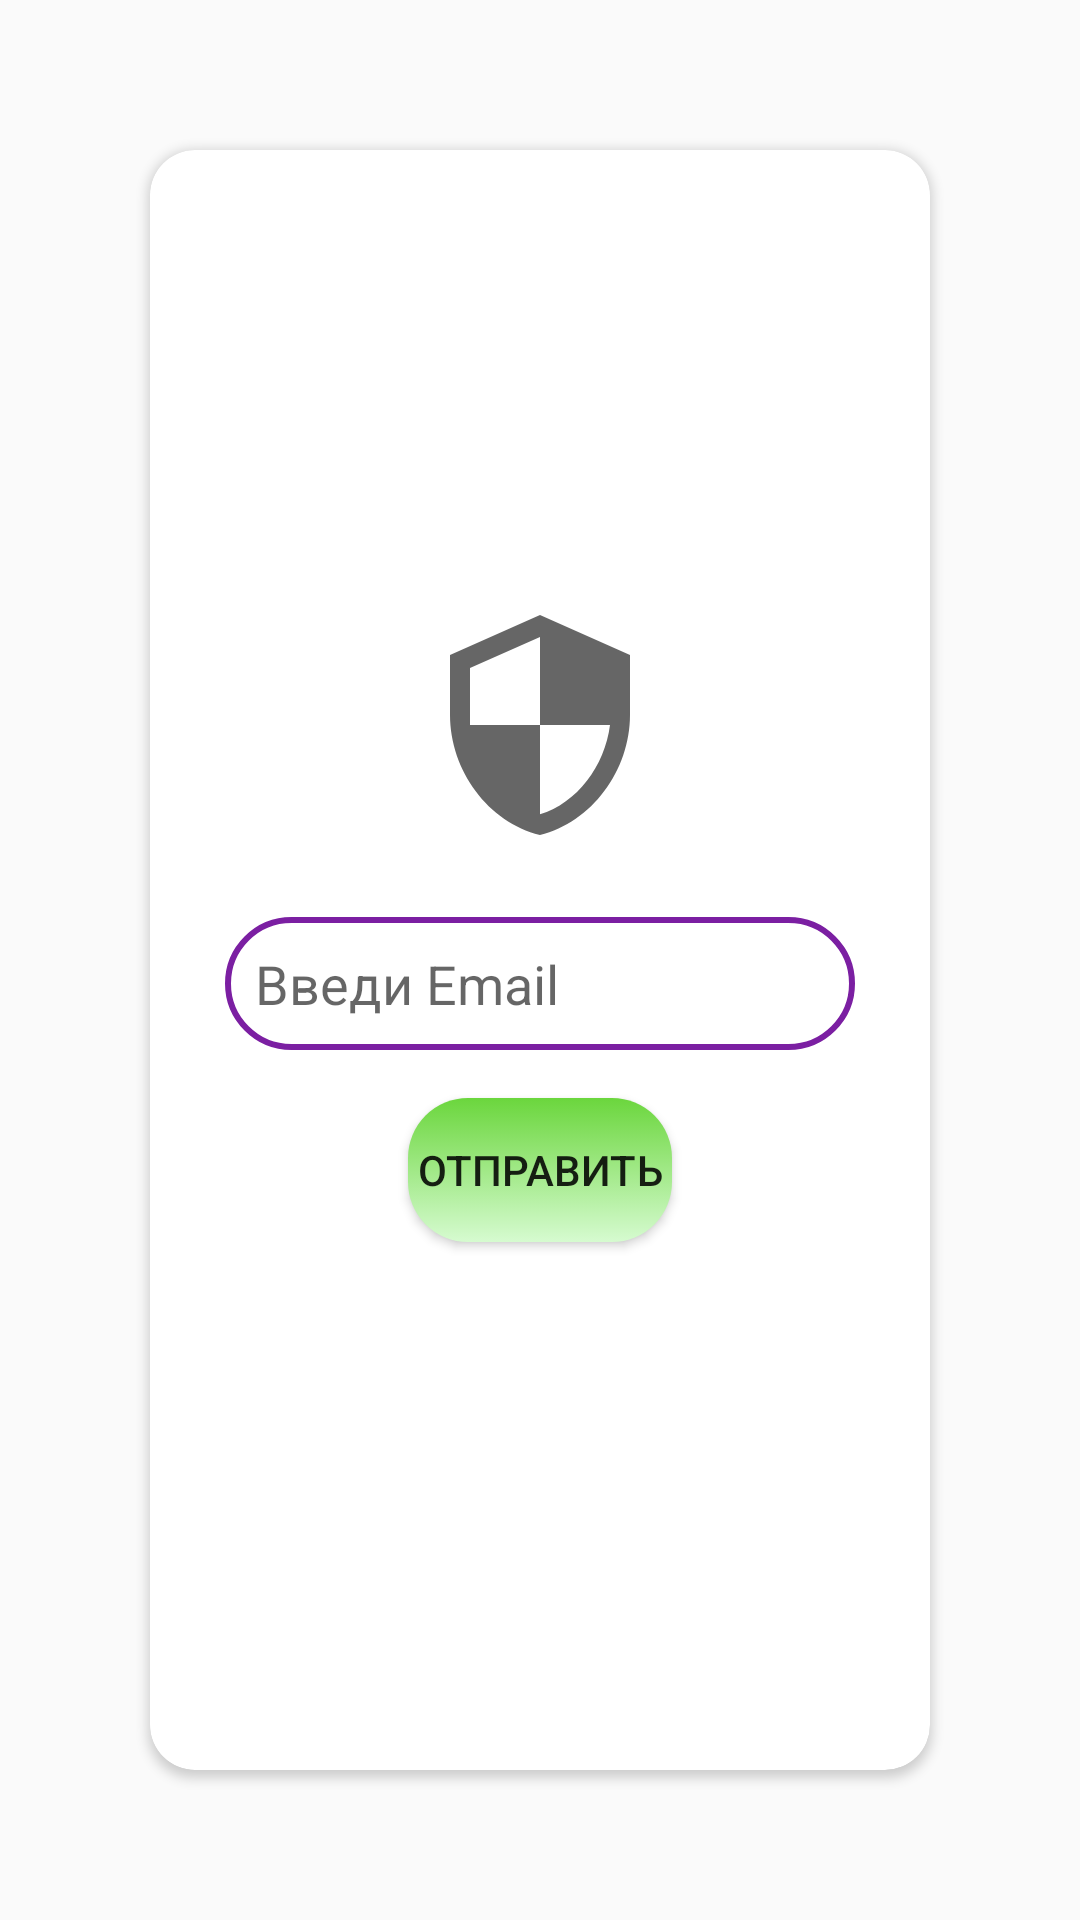

Icon bounding boxes for this 1080 × 1920 phone screenshot, format (x1, y1, x2, y2):
security: (450, 615, 630, 835)
